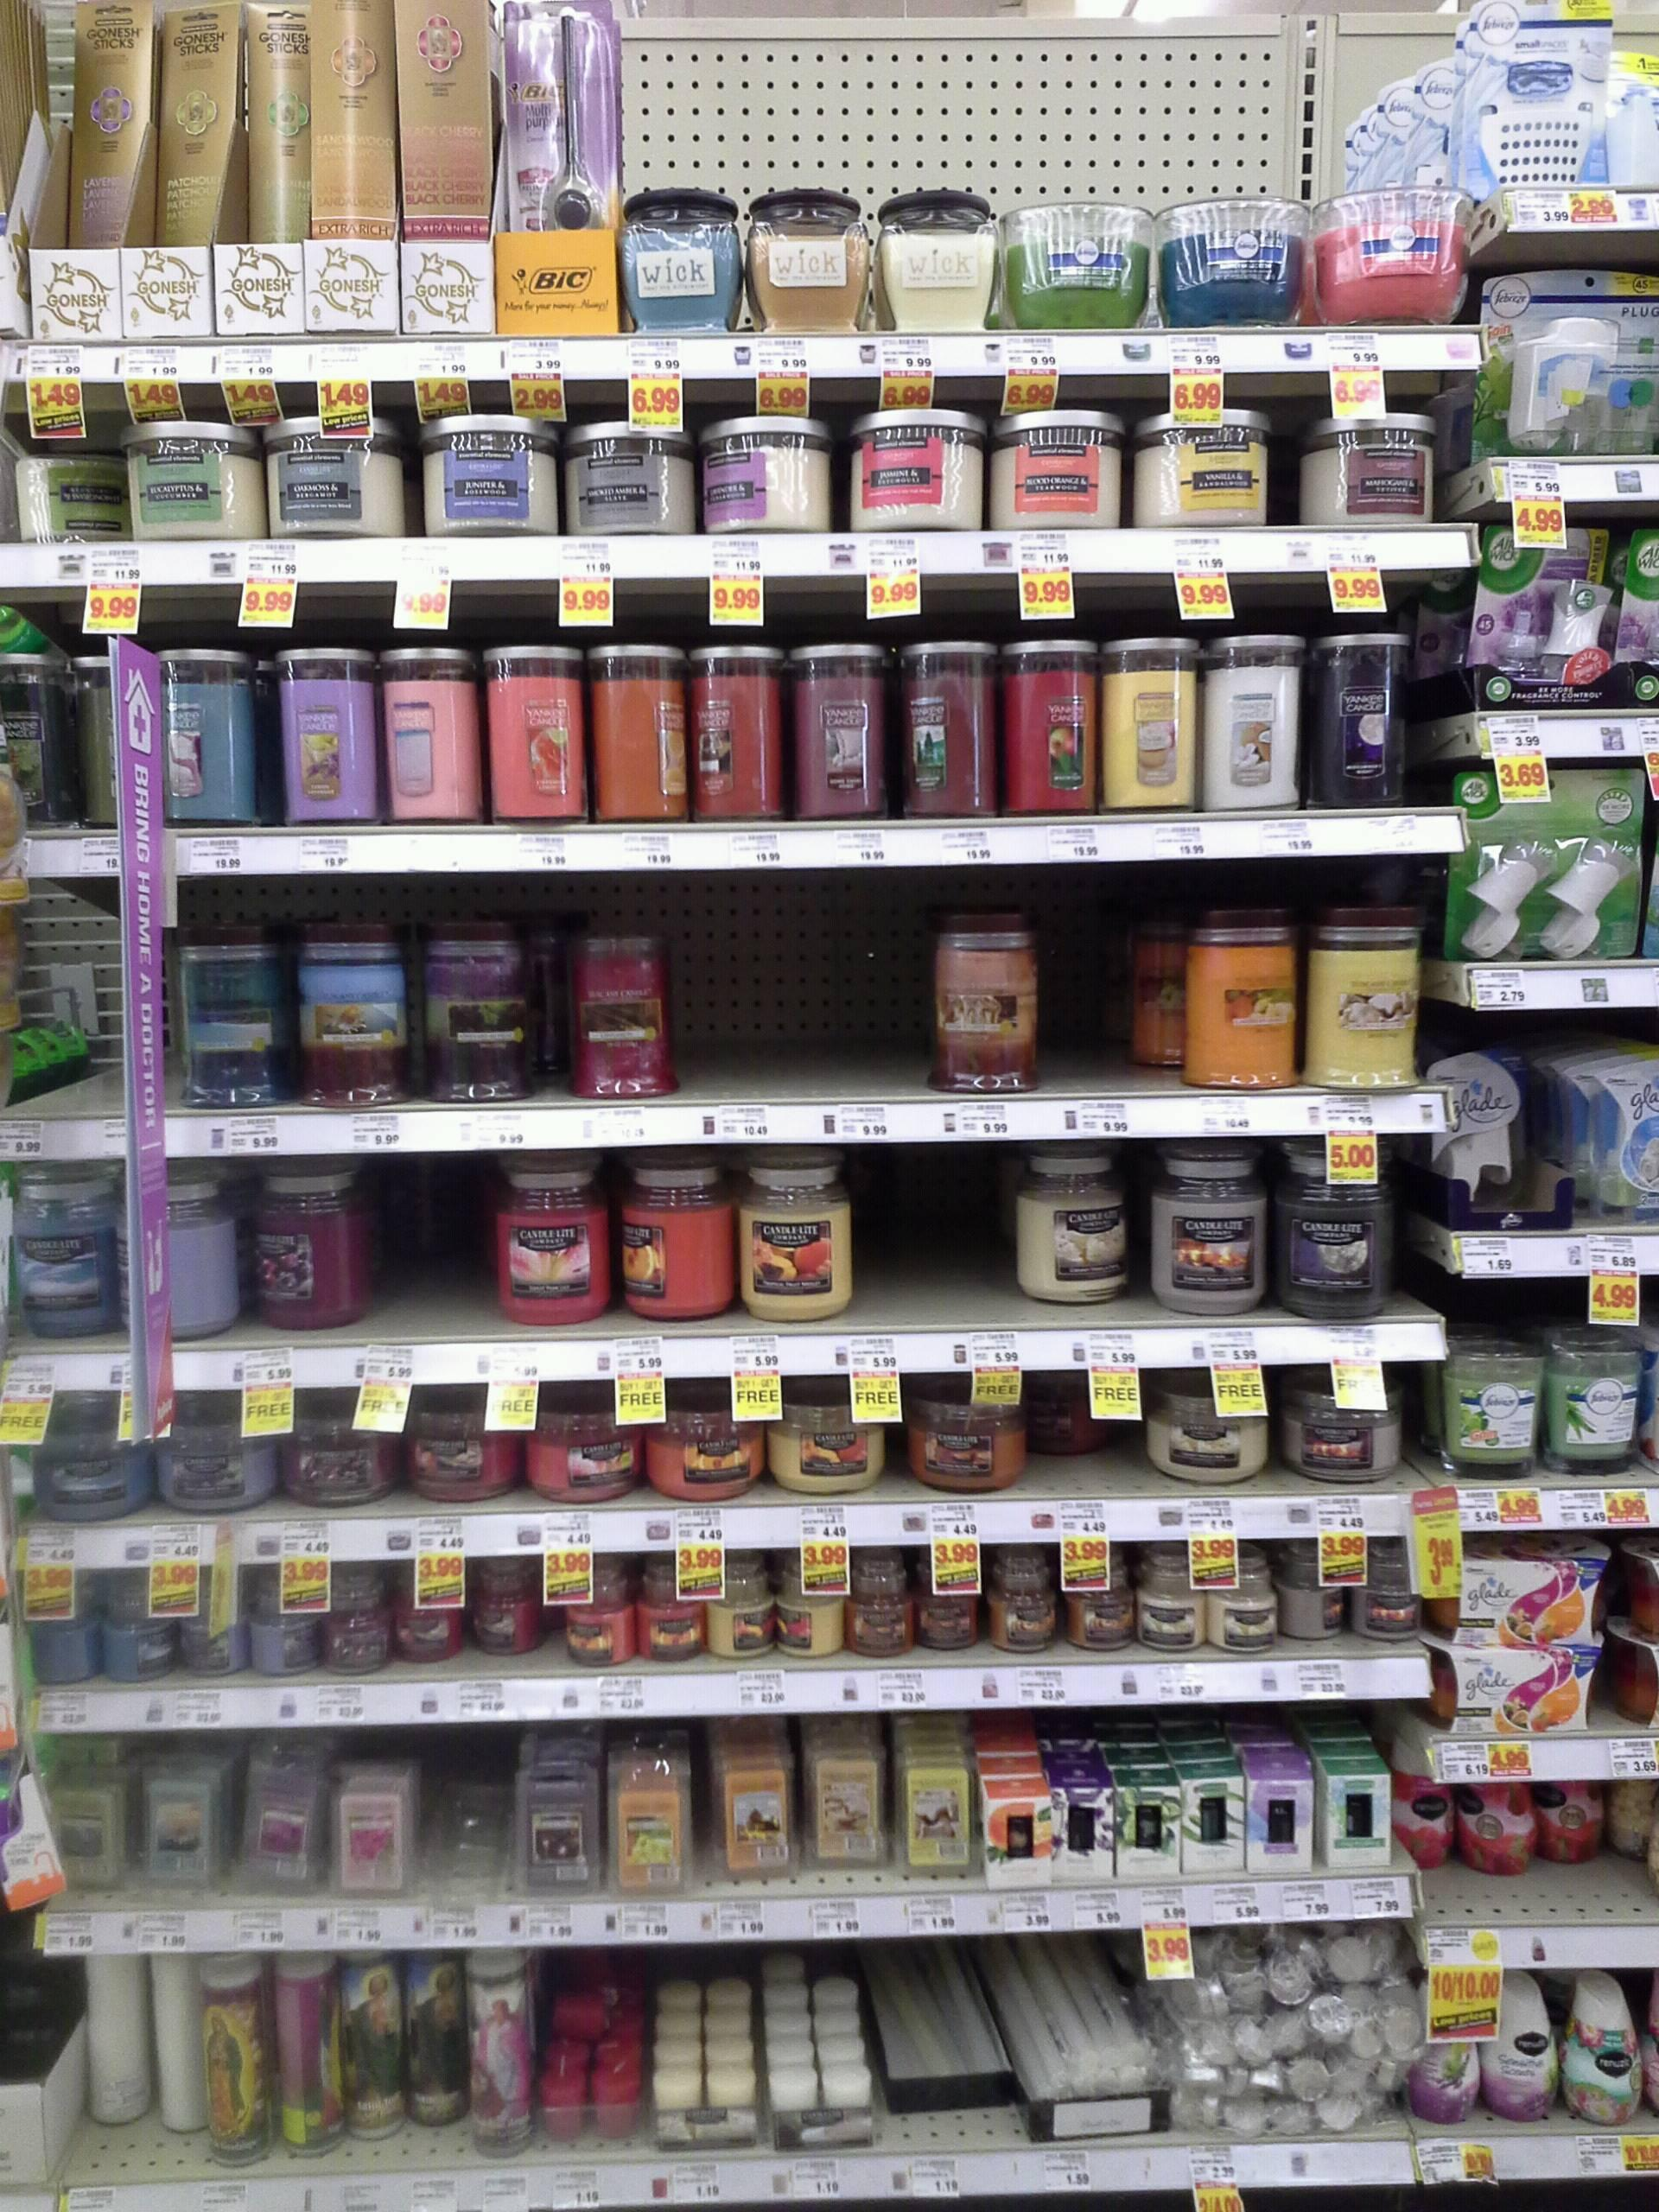empty: (798, 928, 924, 1106), (366, 1172, 491, 1348), (673, 928, 796, 1106), (1047, 914, 1171, 1092), (866, 1157, 990, 1332)
